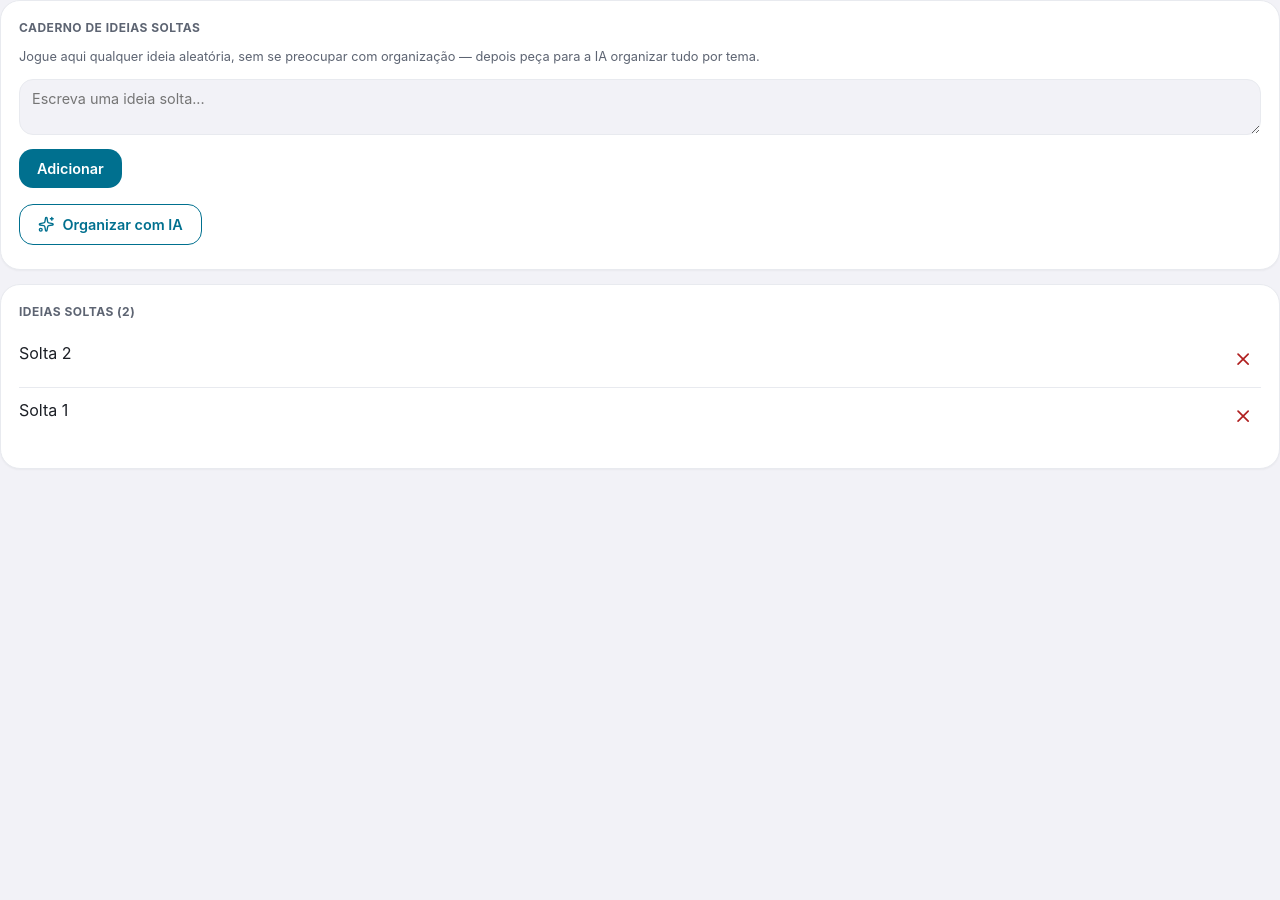
Scenario: Caderno de ideias › só exclui depois de confirmar
Expected: the text "Solta 1" is shown, [19,400,68,420]
Click the button named "Excluir ideia: Solta 1".
click(1243, 416)  # box [1225,398,1261,434]
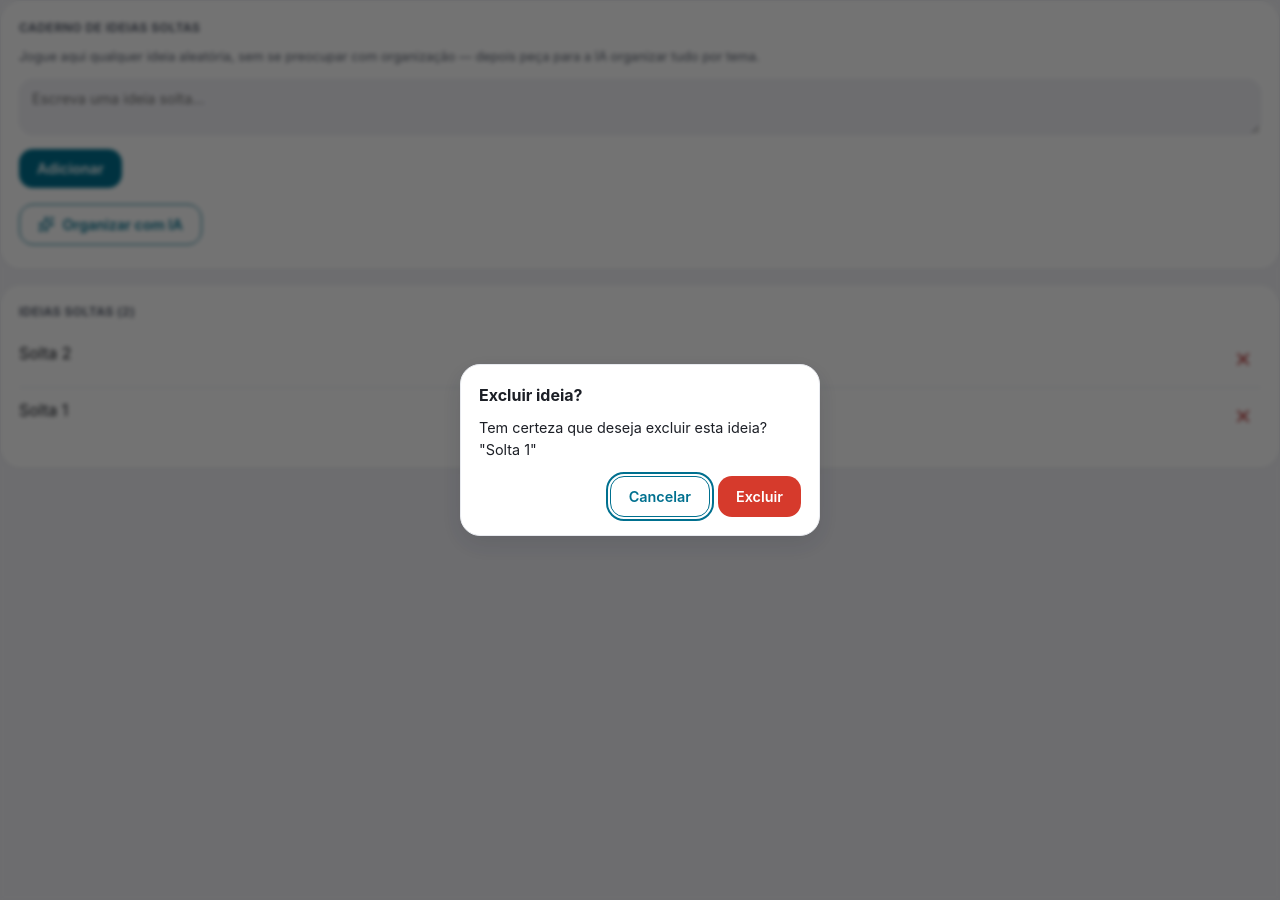
Click the button "Cancelar".
click(660, 497)  # box [610,476,710,517]
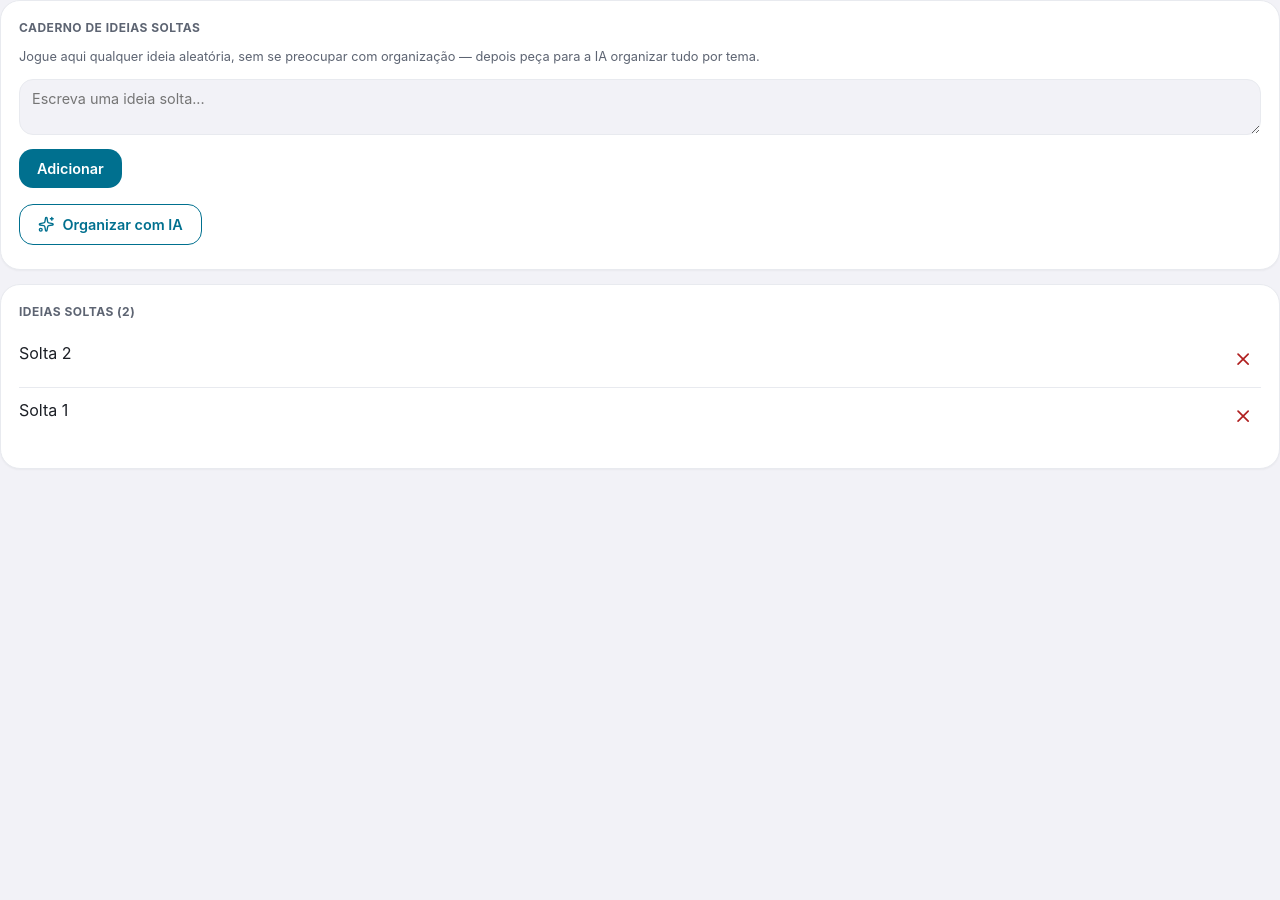
Expected: the text "Solta 1" is shown, [19,400,68,420]
Click the button named "Excluir ideia: Solta 1".
click(1243, 416)  # box [1225,398,1261,434]
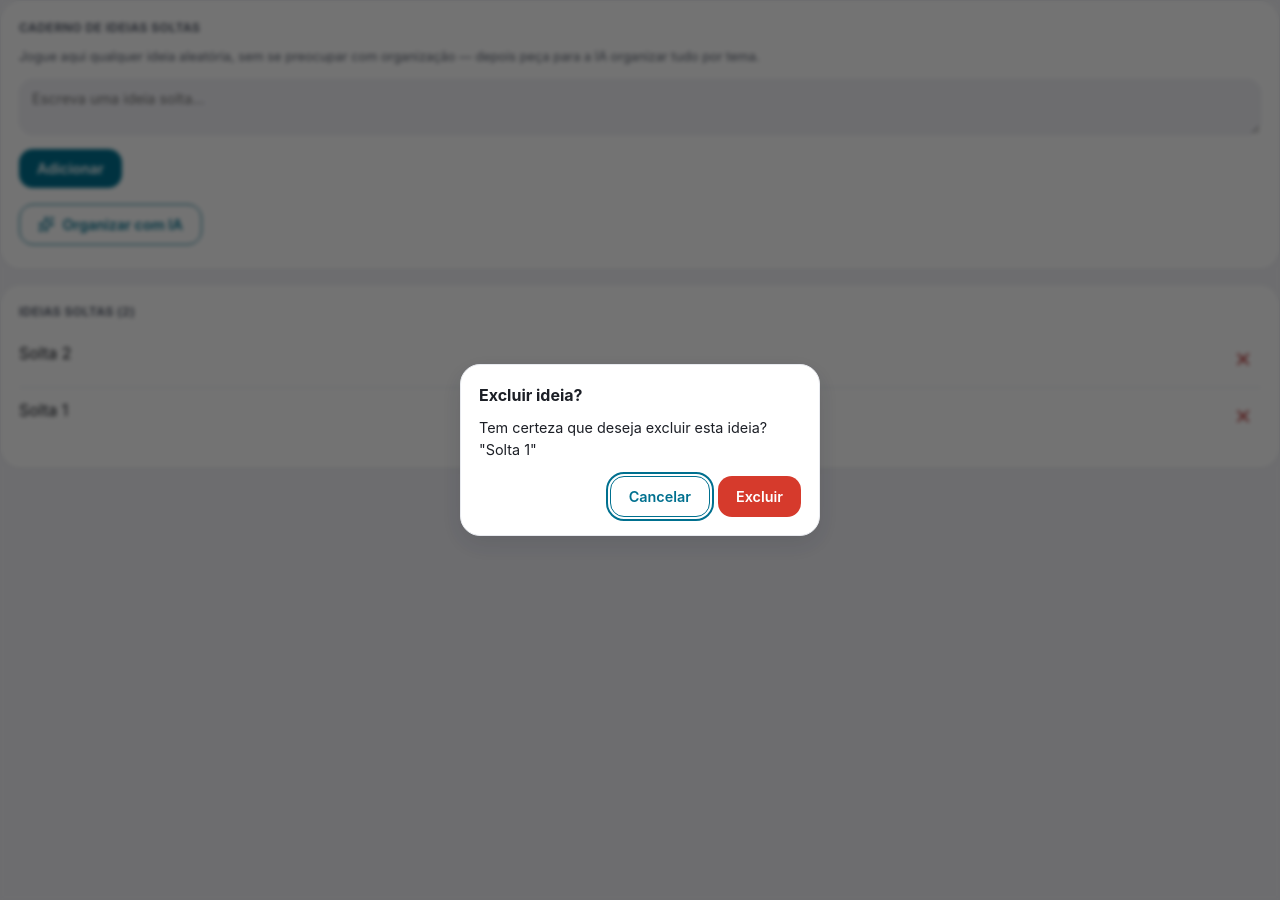
Click the button "Excluir".
click(760, 497)  # box [718,476,801,517]
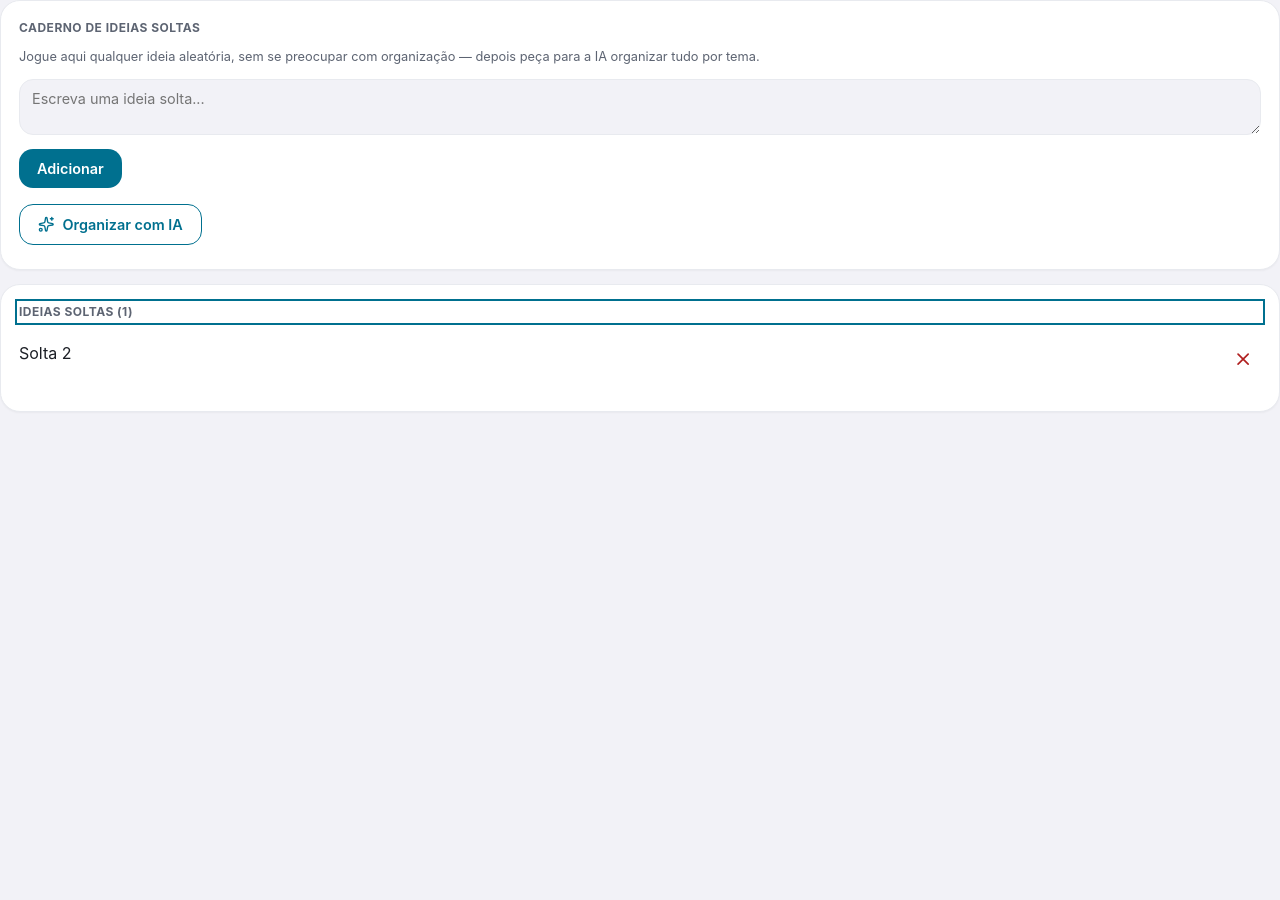
Expected: the text "Solta 1" is gone
Expected: the heading "Ideias soltas (1)" is shown, [19,304,133,319]
